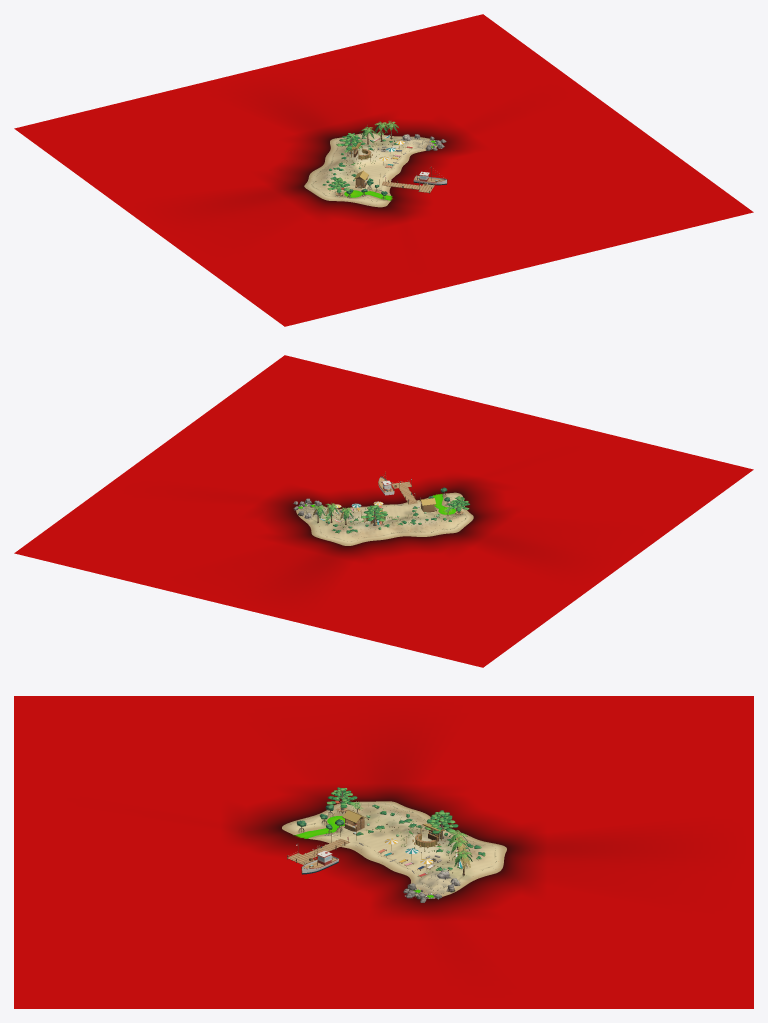
File: beach.glb
3 views of the same model, one above another, from view 1: azimuth 30°, elevation 25°; view 2: azimuth 150°, elevation 25°; view 3: azimuth 270°, elevation 25° (orthographic). The views are drawn at different scales.
Parts seen in each view (by area): view 1: Beach_Sea, Beach_Ground, Beach_Static; view 2: Beach_Sea, Beach_Ground, Beach_Static; view 3: Beach_Sea, Beach_Ground, Beach_Static, Beach_Palms, Prop_Boat.
Part boxes in pixels (left/top/right/bottom): Beach_Sea: left=14, top=14, right=753, bottom=326; Beach_Ground: left=304, top=132, right=437, bottom=207; Beach_Static: left=311, top=131, right=446, bottom=204; Beach_Sea: left=14, top=355, right=753, bottom=667; Beach_Ground: left=296, top=492, right=473, bottom=545; Beach_Static: left=293, top=478, right=470, bottom=536; Beach_Sea: left=14, top=696, right=753, bottom=1008; Beach_Ground: left=282, top=801, right=506, bottom=898; Beach_Static: left=287, top=787, right=498, bottom=902; Beach_Palms: left=448, top=830, right=472, bottom=875; Prop_Boat: left=301, top=846, right=338, bottom=874.
Bounding box in the file's own units: 140 × 8.42 × 140.
